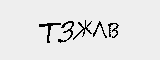В: (105, 20, 118, 41)
Ж: (73, 18, 93, 42)
З: (57, 18, 74, 43)
Л: (90, 19, 107, 41)
Т: (37, 19, 61, 45)
